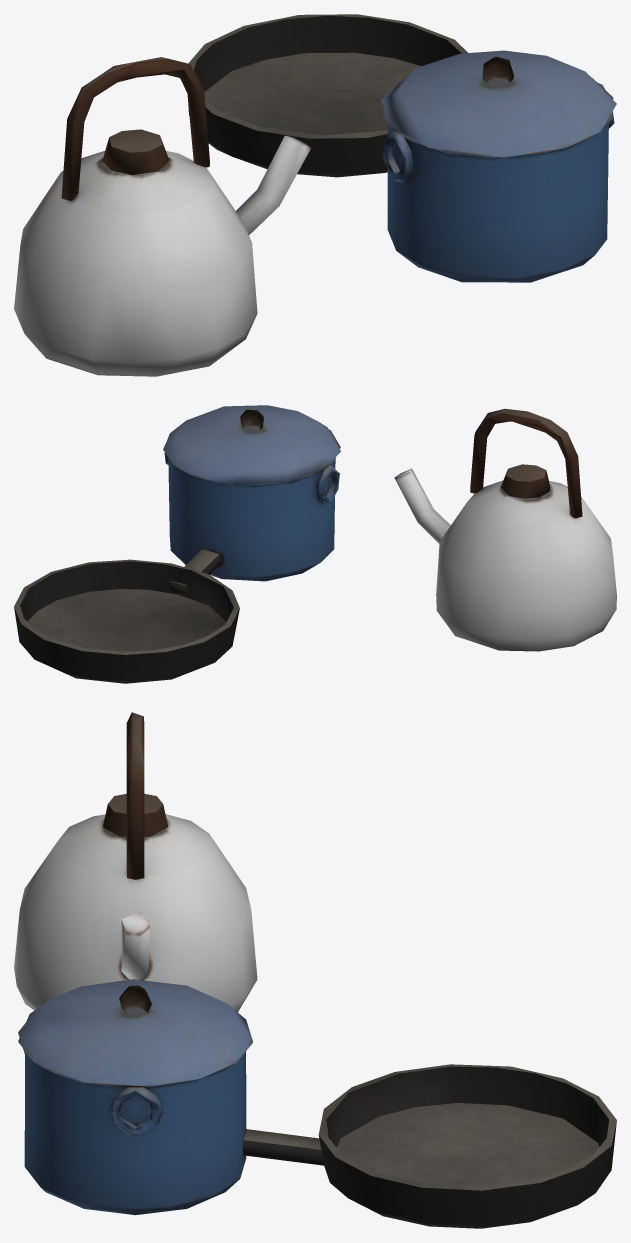
File: clutter_stove-low.glb
3 views of the same model, one above another, from view 1: azimuth 30°, elevation 25°; view 2: azimuth 150°, elevation 25°; view 3: azimuth 270°, elevation 25° (orthographic). The views are drawn at different scales.
Visible parts, largest first — view 1: clutter_stove-low; view 2: clutter_stove-low; view 3: clutter_stove-low.
Boxes of the visible parts, x1,y1,x2,y2 form: clutter_stove-low: [14, 14, 616, 376]; clutter_stove-low: [14, 405, 616, 683]; clutter_stove-low: [14, 712, 616, 1228].
Size of the model in its own units: 0.6249 by 0.2705 by 0.5444.
1 material, 1 textured.
